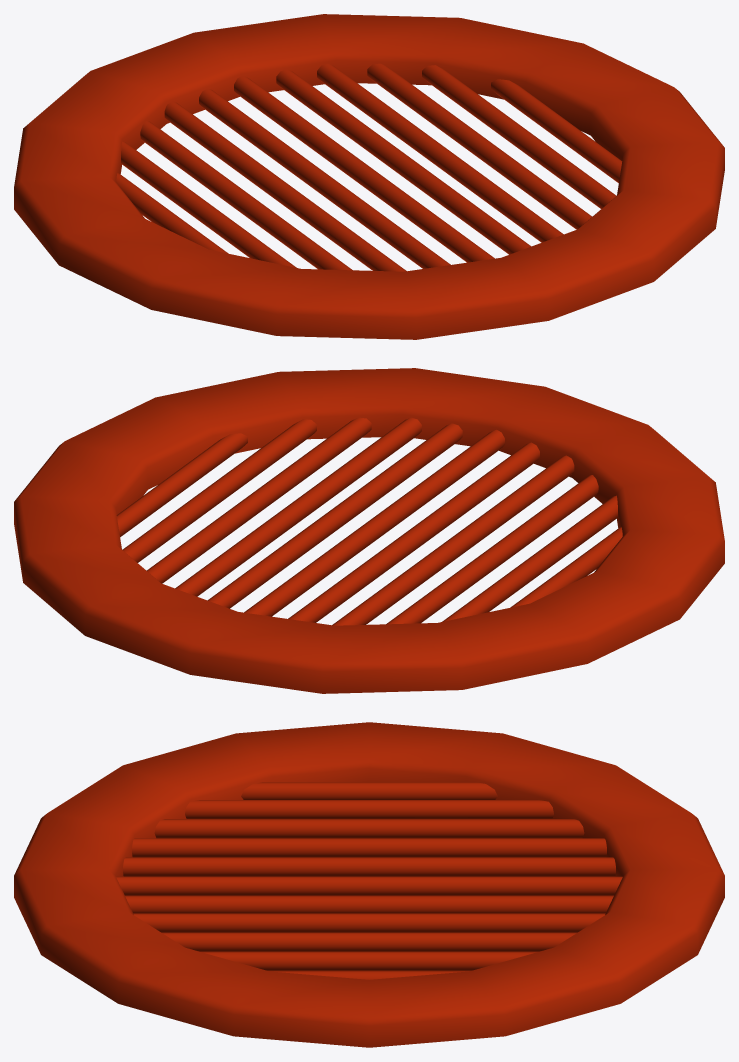
File: Cap_02.FBX
3 views of the same model, one above another, from view 1: azimuth 30°, elevation 25°; view 2: azimuth 150°, elevation 25°; view 3: azimuth 270°, elevation 25° (orthographic).
Parts seen in each view (by area): view 1: Caps_up1_002_Low; view 2: Caps_up1_002_Low; view 3: Caps_up1_002_Low.
Boxes of the visible parts, <box> form: Caps_up1_002_Low: <box>14,14,724,339</box>; Caps_up1_002_Low: <box>14,368,724,693</box>; Caps_up1_002_Low: <box>14,722,724,1047</box>.
Bounding box in the file's own units: 38 × 1.65 × 38.
